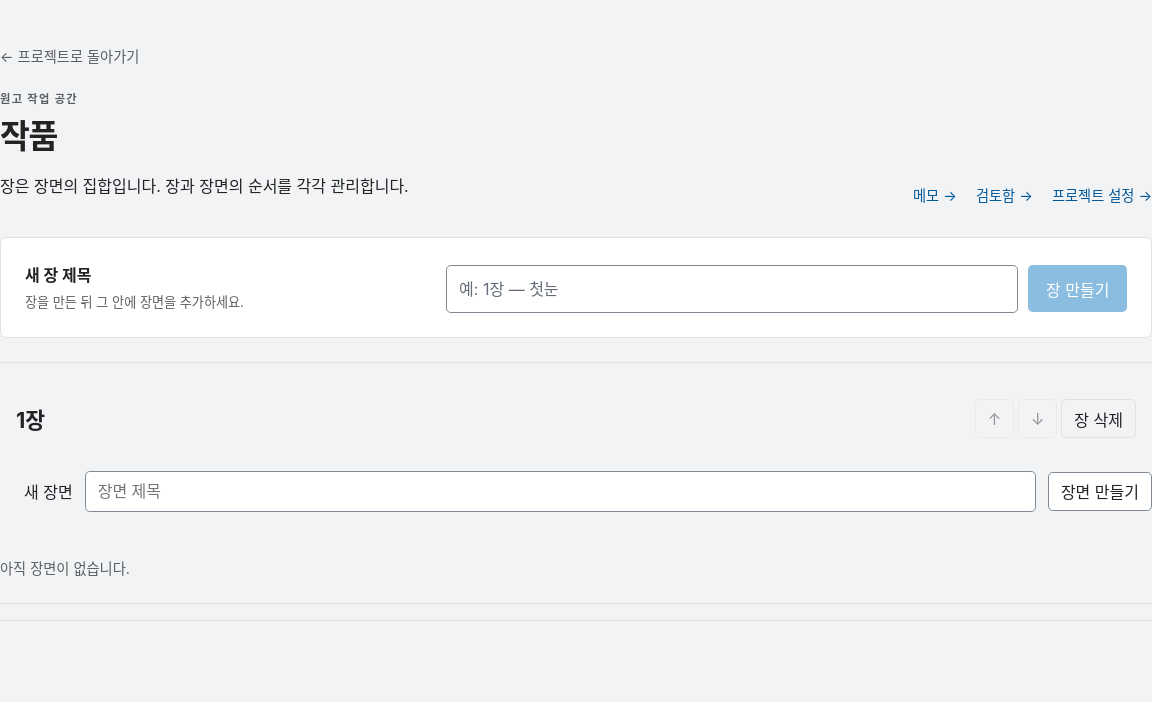
DraftList Chapter→Scene hierarchy › revives the chapter purge retry when only the archive step failed
expect the text "1장" is shown: met, box [16,407,45,433]
Click the button with aria-label "1장 삭제" at (1099, 419), box [1061,399,1136,438]
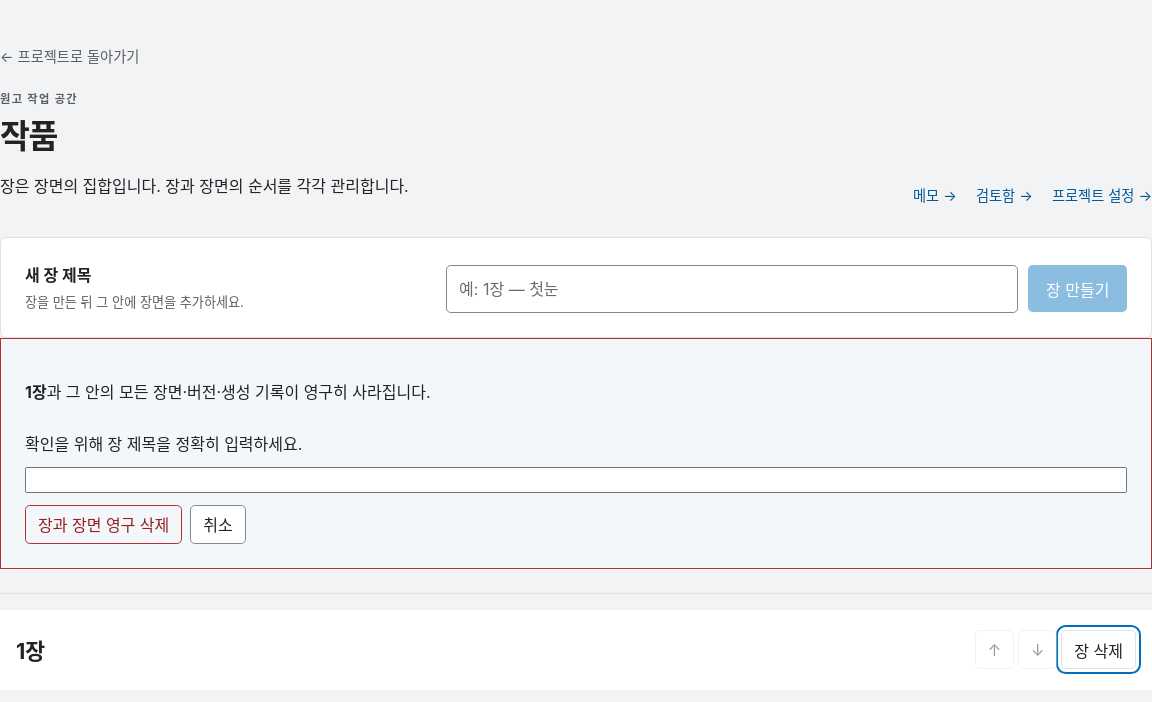
Type "1장" into the field labelled "확인을 위해 장 제목을 정확히 입력하세요." at (576, 480), box [25,467,1127,493]
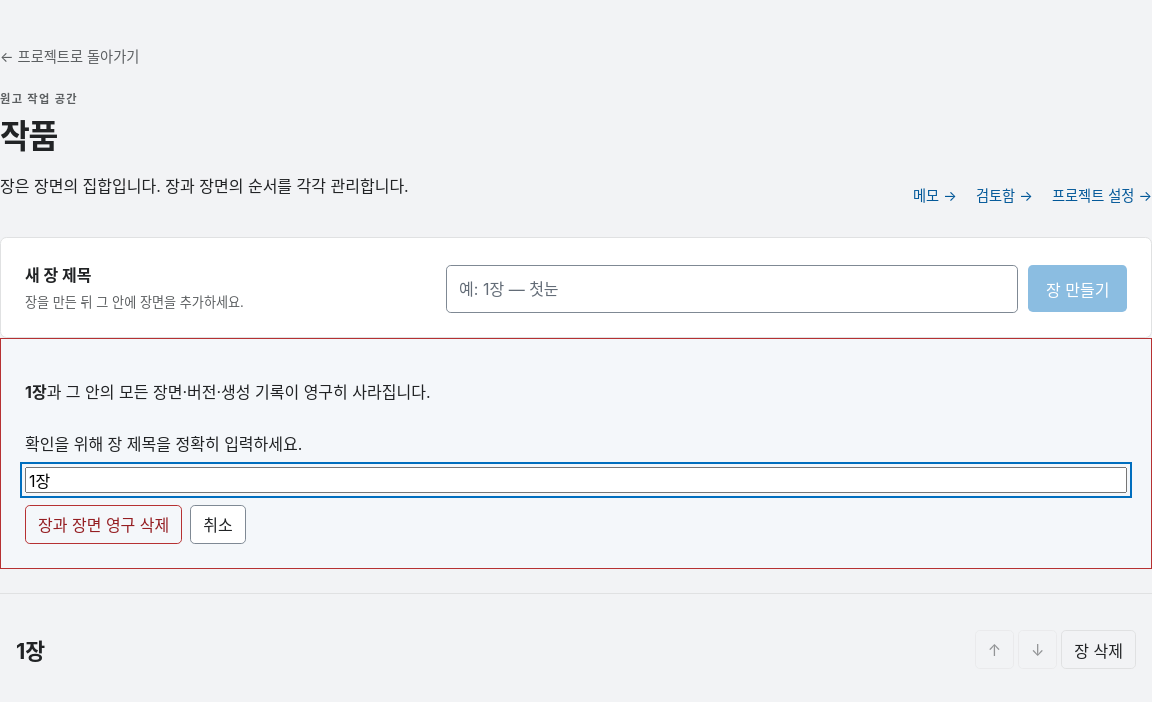
Click the button "장과 장면 영구 삭제" at (104, 524), box [25,505,182,544]
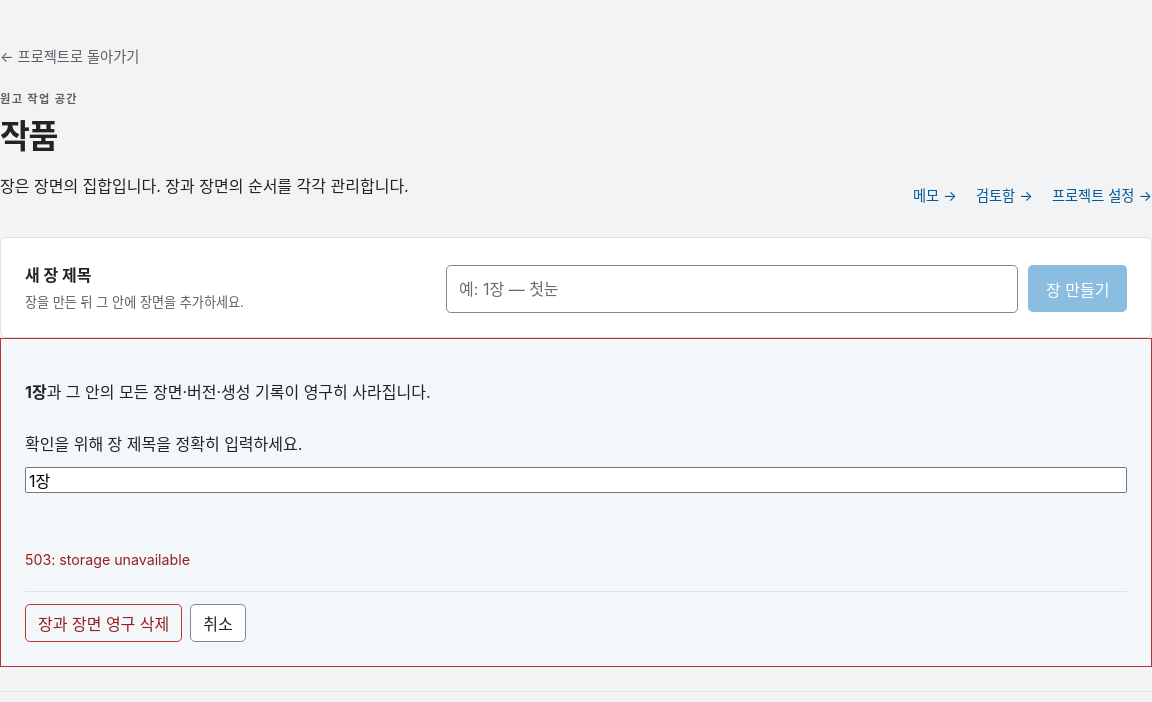
expect the button "장과 장면 영구 삭제" is enabled: met, box [25,604,182,642]
expect the field labelled "확인을 위해 장 제목을 정확히 입력하세요." is enabled: met, box [25,467,1127,493]
expect the message shows "503": met, box [25,551,190,568]
